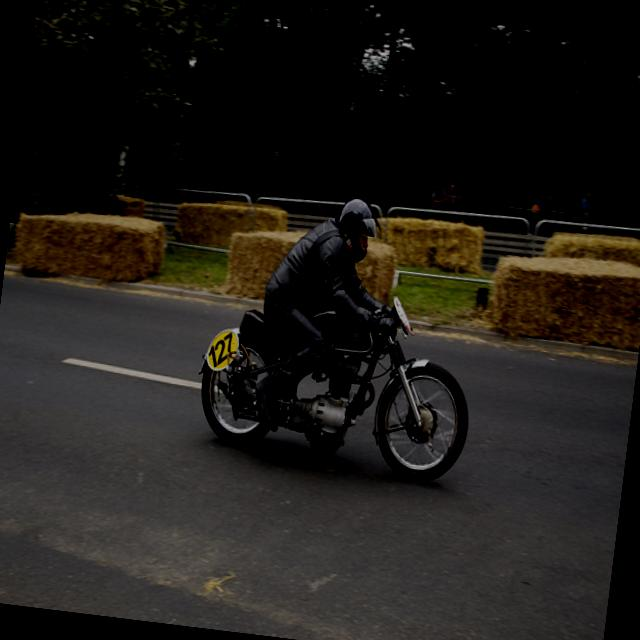Vehicle: (186, 276, 482, 488)
